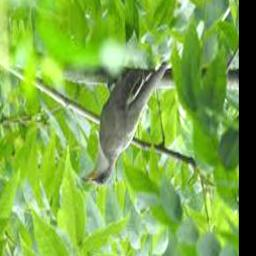Cuckoo: (82, 62, 168, 186)
